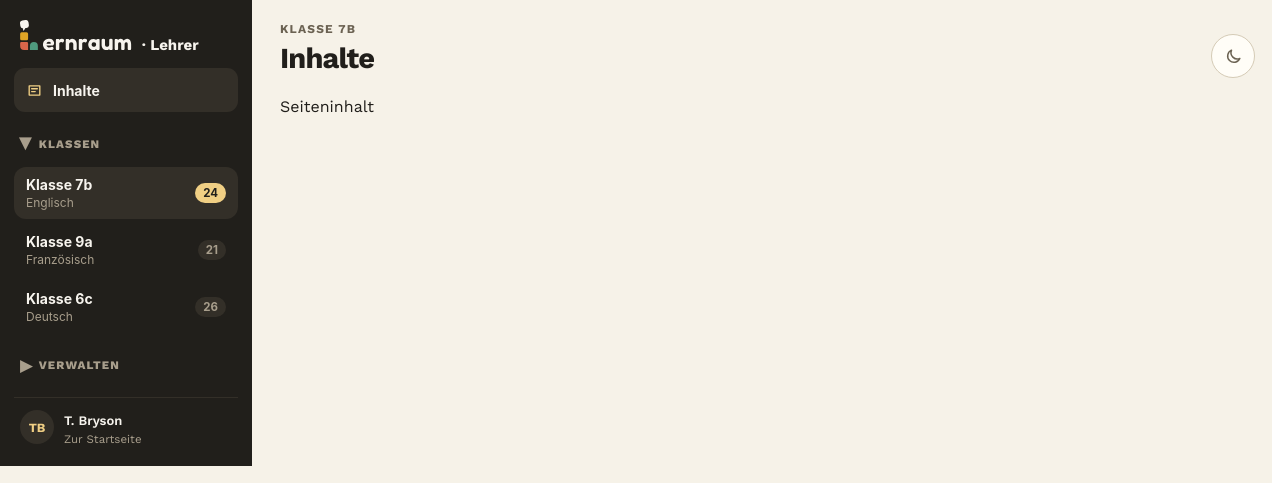
Test case: TeacherFrame › zeigt ohne `areasLabel` die Leiste nach v2: Start oben, Klassen zuklappbar
Click the button "▸ Klassen" at (60, 144), box [20,126,100,162]
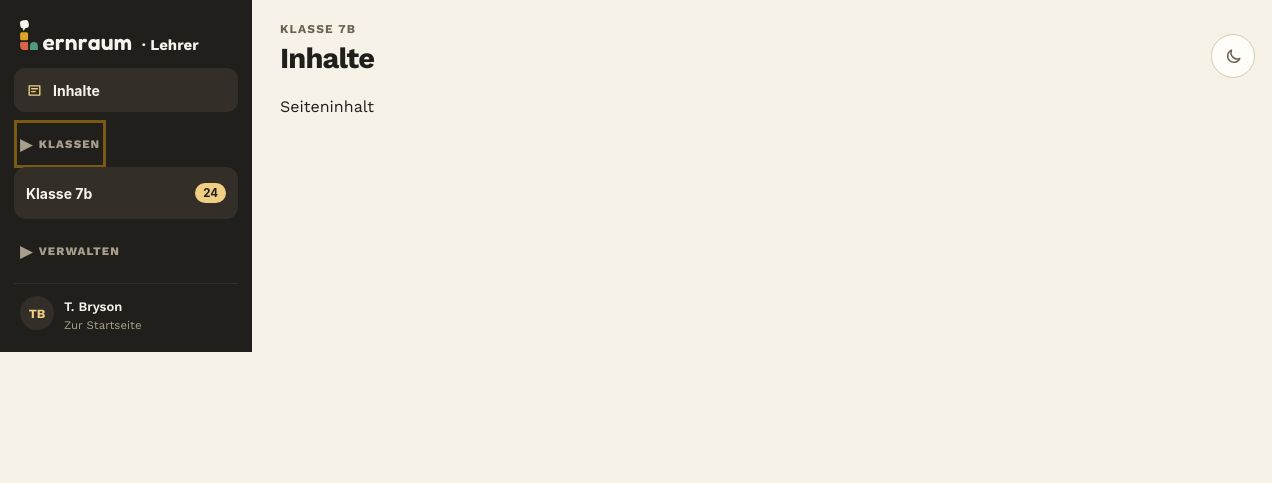
expect the link "Klasse 7b 24" is shown: met, box [14,167,238,219]
expect the link "Klasse 9a" is gone: met
Click the button "▸ Verwalten" at (70, 251), box [20,233,120,269]
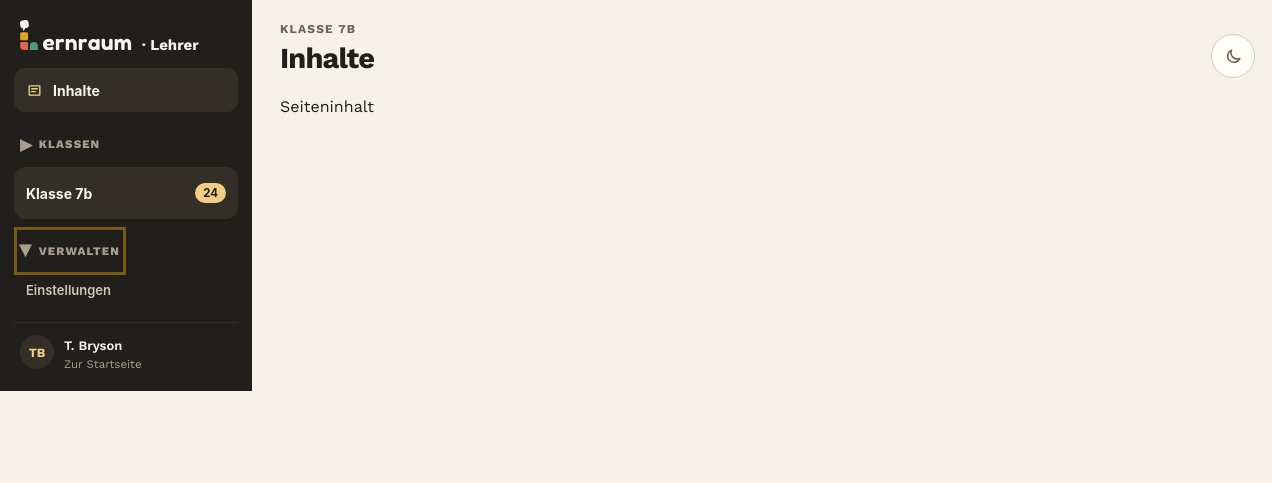
expect the link "Einstellungen" is shown: met, box [26,282,111,298]
